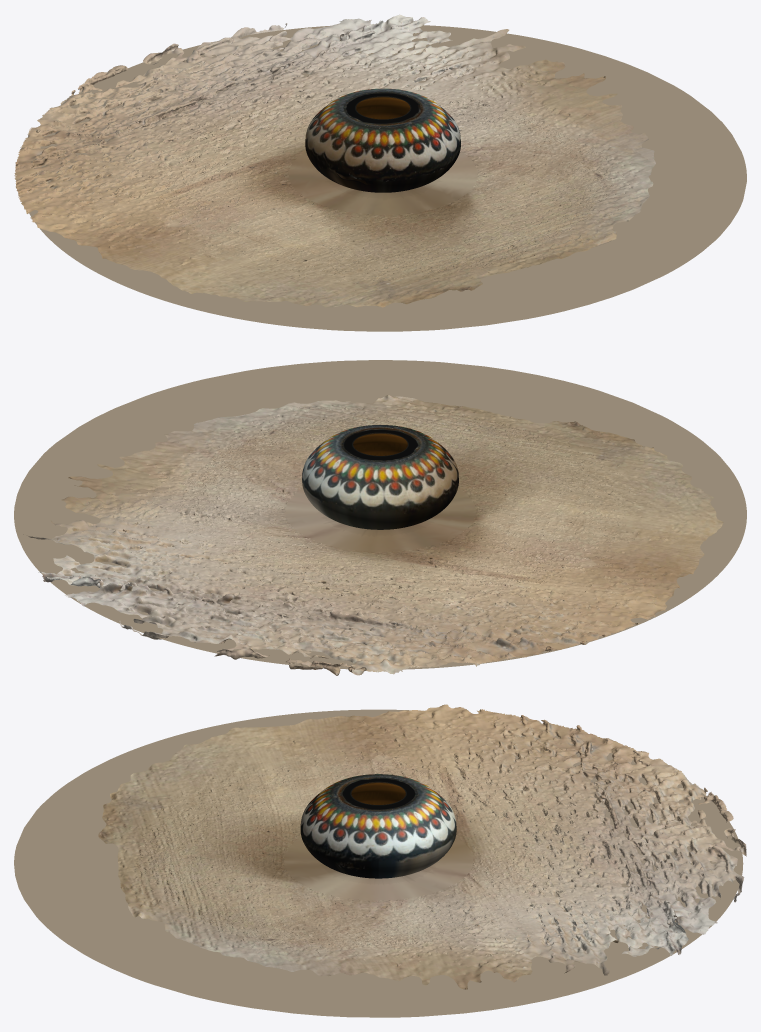
The model's file is tasita.glb.
3 renders of one model, top to bottom at view 1: azimuth 30°, elevation 25°; view 2: azimuth 150°, elevation 25°; view 3: azimuth 270°, elevation 25°, orthographic.
Parts seen in each view (by area): view 1: objeto, base_rellenada, tasita, mesa_parche; view 2: objeto, base_rellenada, tasita, mesa_parche; view 3: objeto, base_rellenada, tasita, mesa_parche.
Boxes of the visible parts, x1,y1,x2,y2 form: objeto: (14,14,655,307); base_rellenada: (29,25,746,331); tasita: (305,88,460,192); mesa_parche: (288,151,477,214); objeto: (23,395,723,675); base_rellenada: (14,360,746,669); tasita: (302,425,458,529); mesa_parche: (285,488,475,552); objeto: (98,704,746,989); base_rellenada: (14,709,743,1017); tasita: (300,774,456,878); mesa_parche: (283,837,473,901).
Bounding box in the file's own units: 0.3461 × 0.0399 × 0.348.
Materials: 5 (2 with a texture image).
